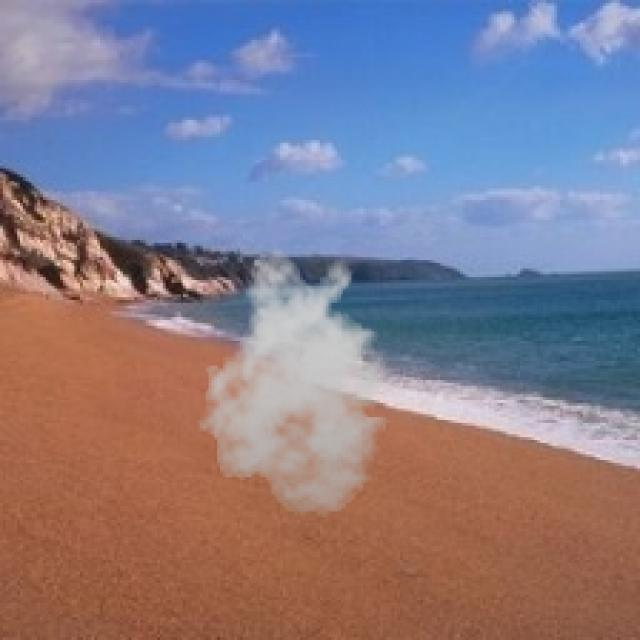Smoke: (192, 248, 412, 518)
